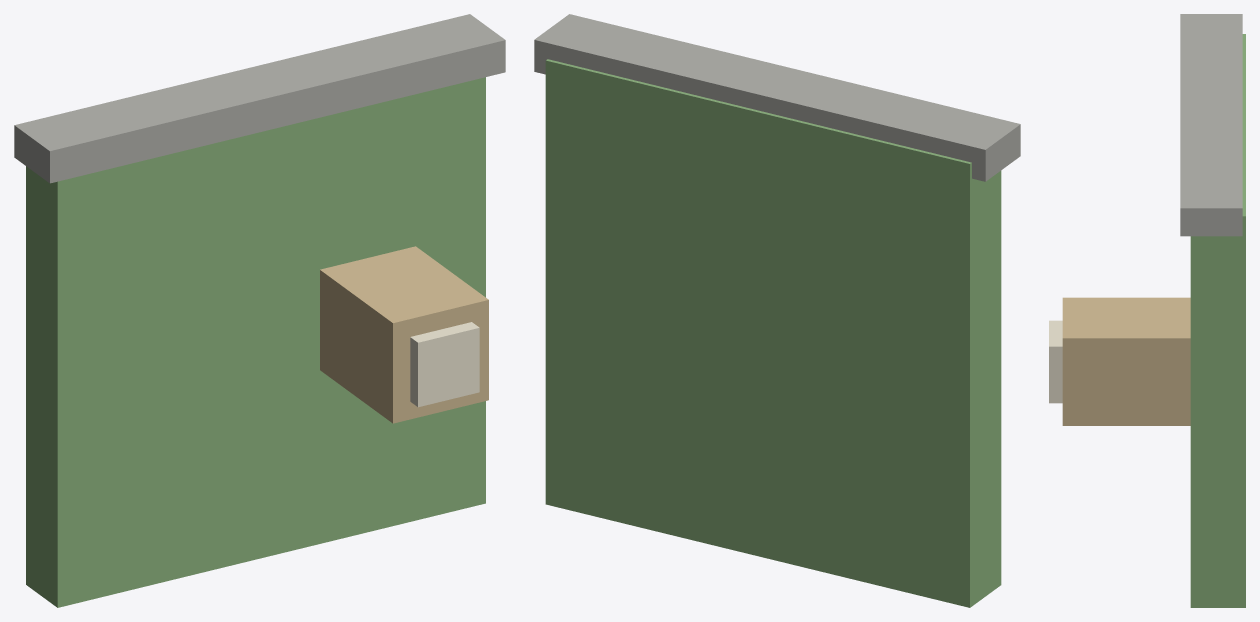
The model's file is 24_LuongThuc.glb.
The picture shows the model from 3 angles, left to right: view 1: azimuth 30°, elevation 25°; view 2: azimuth 150°, elevation 25°; view 3: azimuth 270°, elevation 25°; orthographic projection. The views are drawn at different scales.
Parts seen in each view (by area): view 1: base, edge, sack, rice; view 2: base, edge; view 3: base, sack, edge, rice.
Part boxes in pixels (bbox=[...]): base: bbox=[26, 77, 485, 607]; edge: bbox=[14, 14, 505, 183]; sack: bbox=[320, 246, 488, 423]; rice: bbox=[410, 322, 479, 407]; base: bbox=[545, 59, 1001, 607]; edge: bbox=[534, 14, 1020, 181]; base: bbox=[1190, 34, 1245, 607]; sack: bbox=[1062, 297, 1190, 425]; edge: bbox=[1180, 14, 1242, 236]; rice: bbox=[1049, 320, 1062, 403].
Size of the model in its own units: 1.33 by 1.3 by 0.57.
